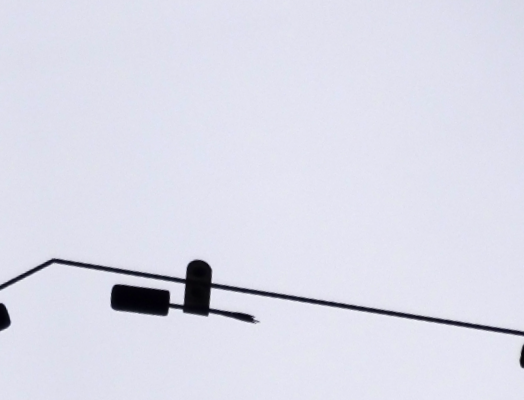damper_defect: (107, 256, 261, 329)
